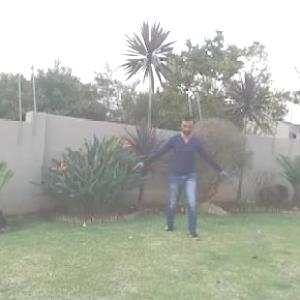land: (122, 104, 227, 237)
